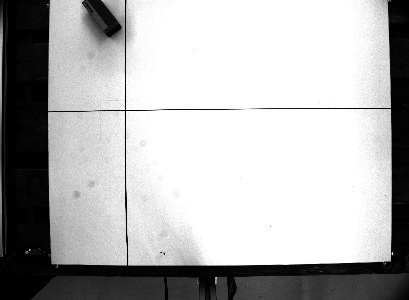b3: (71, 1, 123, 39)
